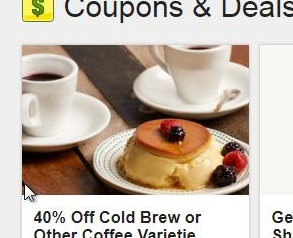cursor: (22, 181, 37, 204)
